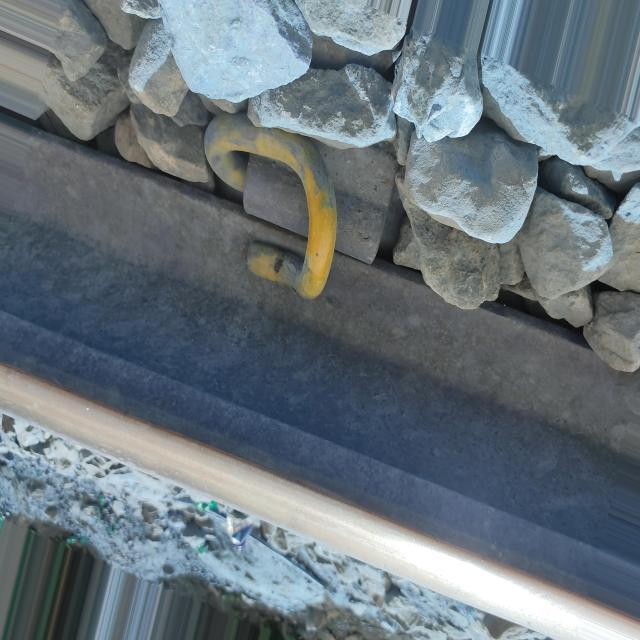Good Fasteners: (194, 111, 416, 313)
